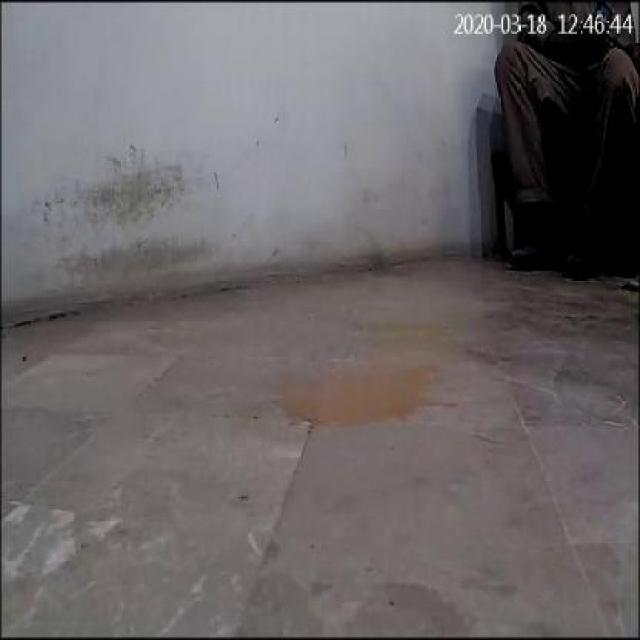spill: (278, 360, 442, 425)
